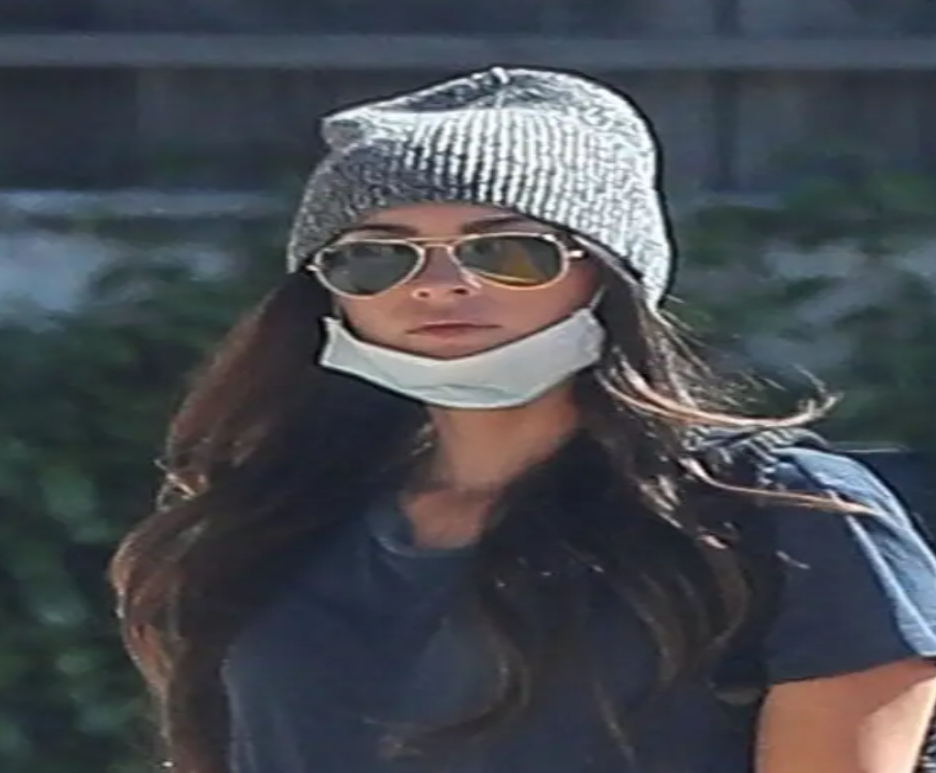mask_weared_incorrect: (288, 70, 671, 416)
